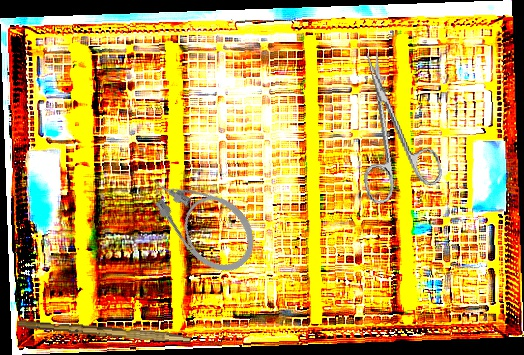Cannula: (137, 151, 269, 285)
Iris Scissors: (335, 41, 447, 207)
Scalpel Handle: (17, 318, 192, 344)
